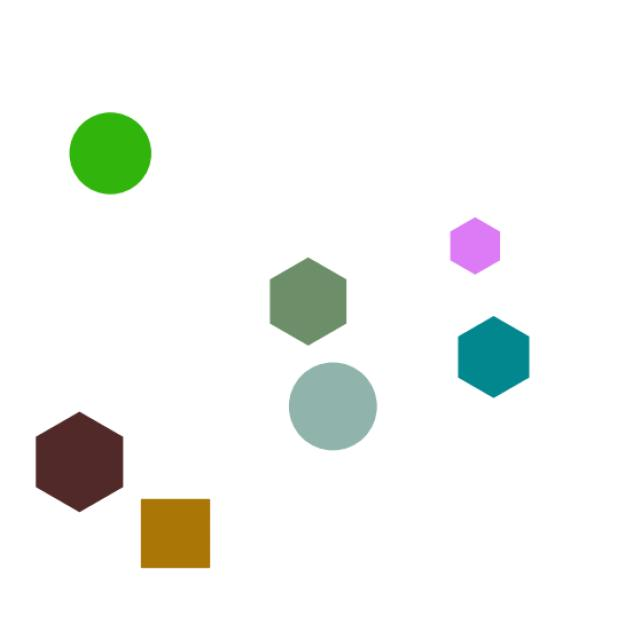Circle: (283, 354, 397, 456), (49, 106, 162, 200)
Hexagon: (24, 405, 138, 518), (246, 246, 362, 354), (443, 311, 542, 409), (429, 208, 512, 286)
square: (126, 490, 241, 590)
